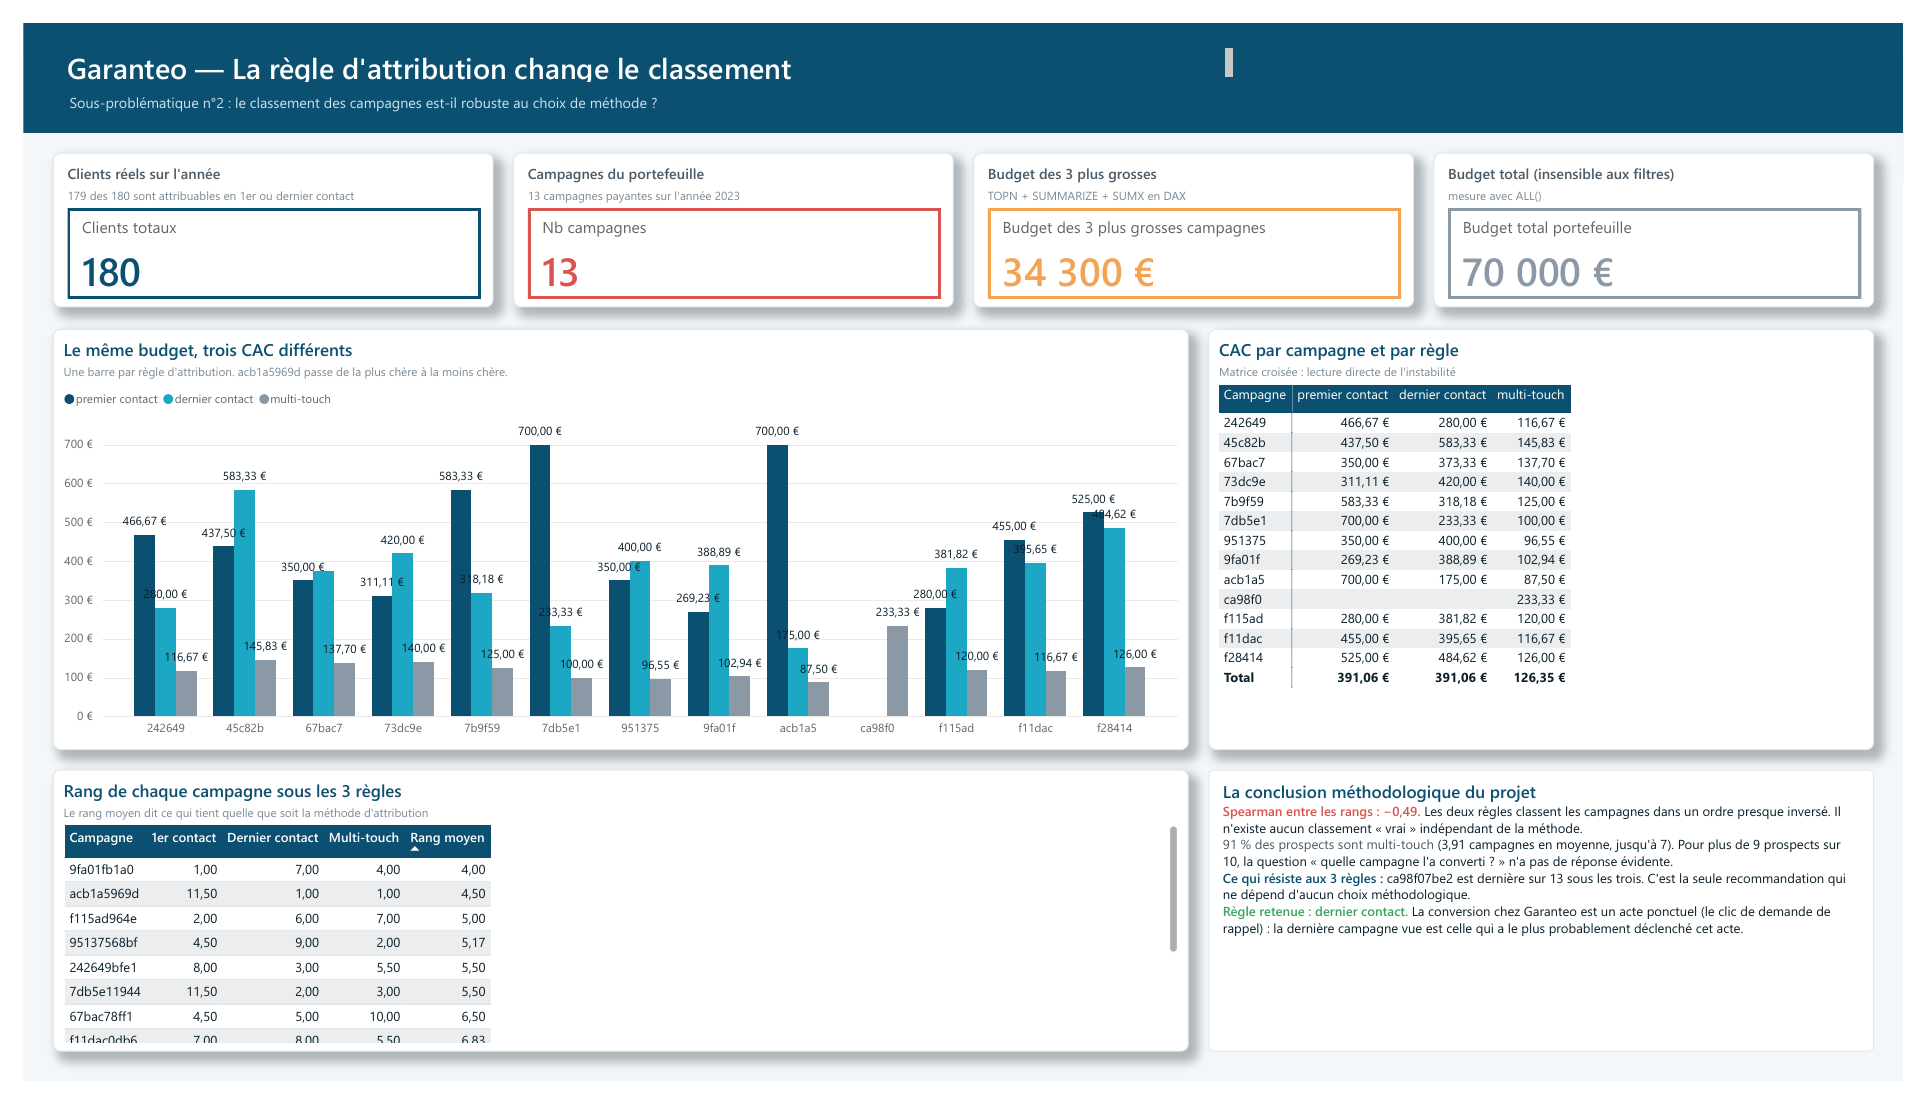

The page's visual inventory and layout, read from the dashboard file:
{"tool":"powerbi","page":{"name":"3 · Règle d'attribution","canvas":[1920,1080],"ordinal":2},"visuals":[{"type":"shape","box":[0,0,1920,112],"z":0},{"type":"cardVisual","title":"Clients réels sur l'année","fields":{"Data":["_Mesures.Clients totaux"]},"box":[30,132,450,158],"z":1000},{"type":"cardVisual","title":"Campagnes du portefeuille","fields":{"Data":["_Mesures.Nb campagnes"]},"box":[500,132,450,158],"z":2000},{"type":"cardVisual","title":"Budget des 3 plus grosses","fields":{"Data":["_Mesures.Budget des 3 plus grosses campagnes"]},"box":[970,132,450,158],"z":3000},{"type":"cardVisual","title":"Budget total (insensible aux filtres)","fields":{"Data":["_Mesures.Budget total portefeuille"]},"box":[1440,132,450,158],"z":4000},{"type":"clusteredColumnChart","title":"Le même budget, trois CAC différents","fields":{"Category":["D_Campagne.Code court"],"Series":["D_Attribution.regle_attribution"],"Y":["_Mesures.CAC attribué"]},"box":[30,312,1160,430],"z":5000},{"type":"pivotTable","title":"CAC par campagne et par règle","fields":{"Columns":["D_Attribution.regle_attribution"],"Rows":["D_Campagne.Code court"],"Values":["_Mesures.CAC attribué"]},"box":[1210,312,680,430],"z":6000},{"type":"tableEx","title":"Rang de chaque campagne sous les 3 règles","fields":{"Values":["RangsAttribution.campaign_id","Sum(RangsAttribution.rang_premier)","Sum(RangsAttribution.rang_dernier)","Sum(RangsAttribution.rang_multi)","Average(RangsAttribution.rang_moyen)"]},"box":[30,762,1160,288],"z":7000},{"type":"textbox","box":[1210,762,680,288],"z":8000},{"type":"textbox","box":[40,20,1200,44],"z":9000},{"type":"textbox","box":[42,66,1400,30],"z":10000}]}

Visuals, with their boxes in screenshot pixels (x1, y1, x2, y2), scaled from the page's 1920x1080 canvas onto the 1927x1105 screenshot:
shape: x1=0, y1=0, x2=1926, y2=115
"Clients réels sur l'année" cardVisual: x1=30, y1=135, x2=482, y2=297
"Campagnes du portefeuille" cardVisual: x1=502, y1=135, x2=953, y2=297
"Budget des 3 plus grosses" cardVisual: x1=974, y1=135, x2=1425, y2=297
"Budget total (insensible aux filtres)" cardVisual: x1=1445, y1=135, x2=1897, y2=297
"Le même budget, trois CAC différents" clusteredColumnChart: x1=30, y1=319, x2=1194, y2=759
"CAC par campagne et par règle" pivotTable: x1=1214, y1=319, x2=1897, y2=759
"Rang de chaque campagne sous les 3 règles" tableEx: x1=30, y1=780, x2=1194, y2=1074
textbox: x1=1214, y1=780, x2=1897, y2=1074
textbox: x1=40, y1=20, x2=1245, y2=65
textbox: x1=42, y1=68, x2=1447, y2=98
